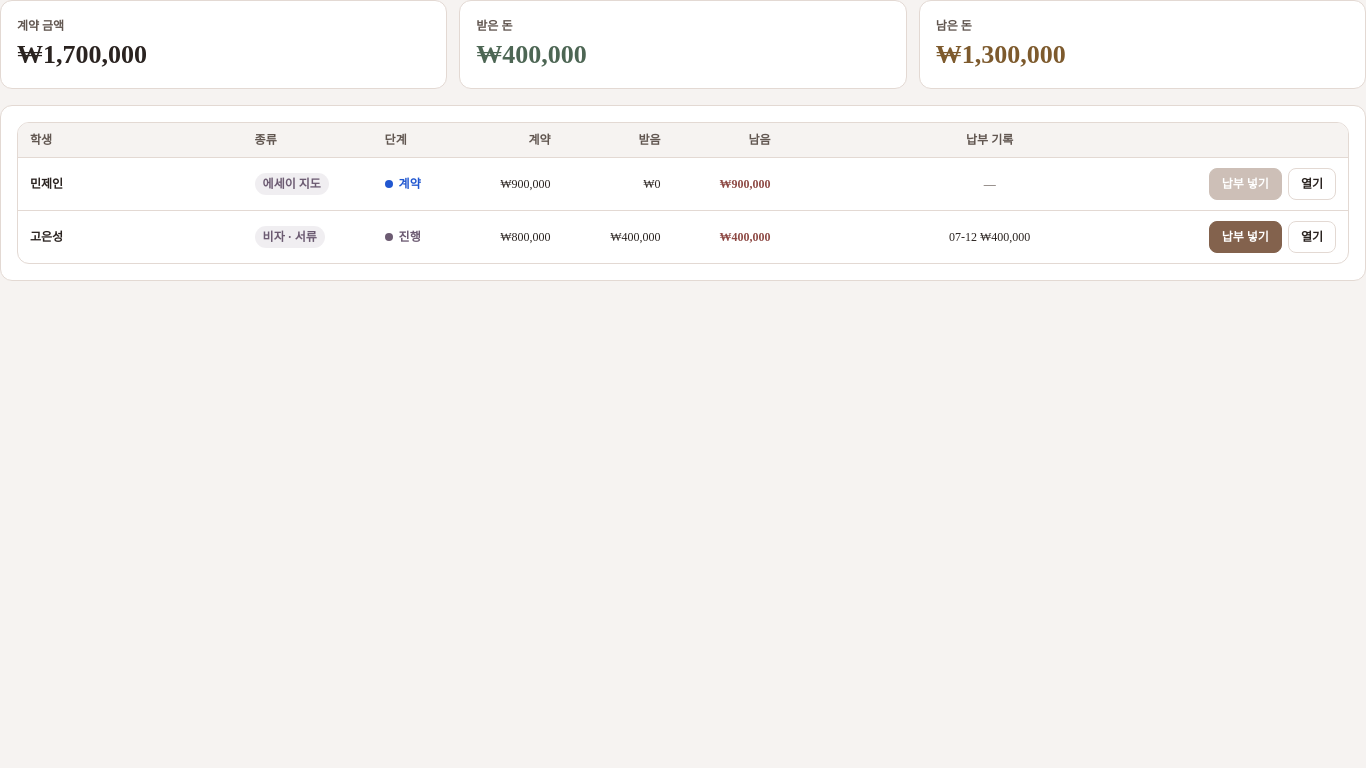
Scenario: 이미 전환한 건은 청구서 번호를 보여 주고 다시 눌리지 않는다
Click the button "열기" in the row of "고은성" at (1312, 236), box [1288,220,1336,252]
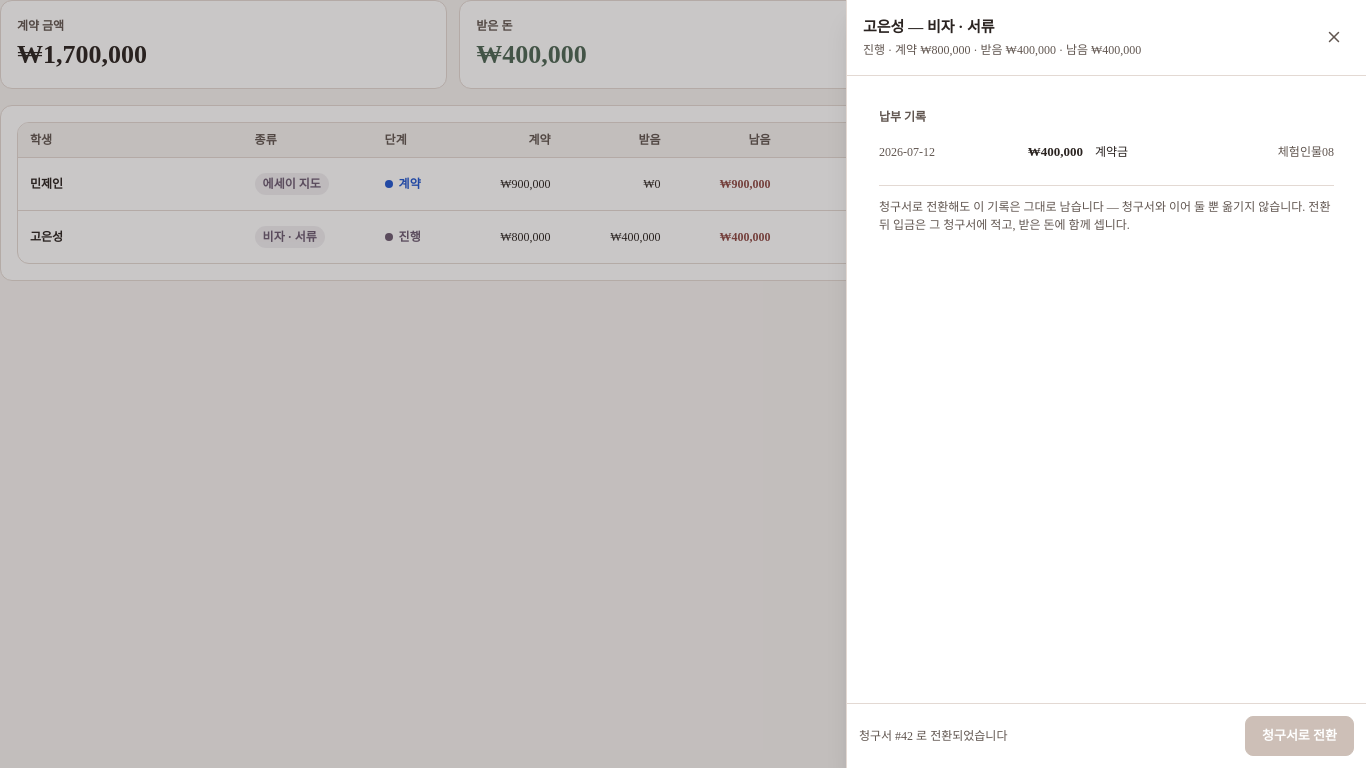
Result: the text "청구서 #42 로 전환되었습니다" is shown at [859,727,1008,745]
Result: the button "청구서로 전환" is disabled at [1245,716,1354,756]
